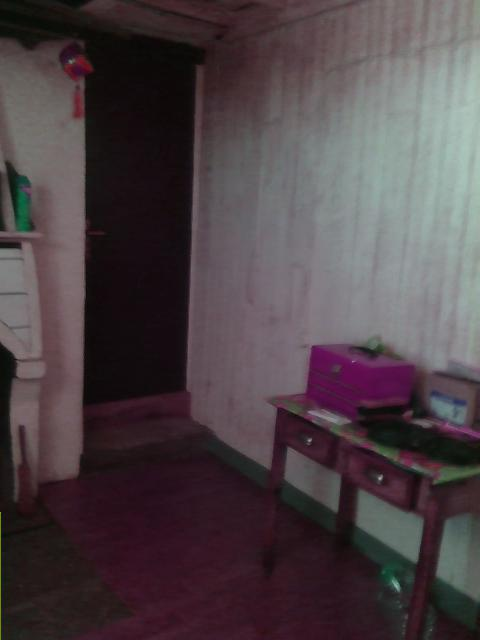closed_door: (84, 32, 203, 403)
